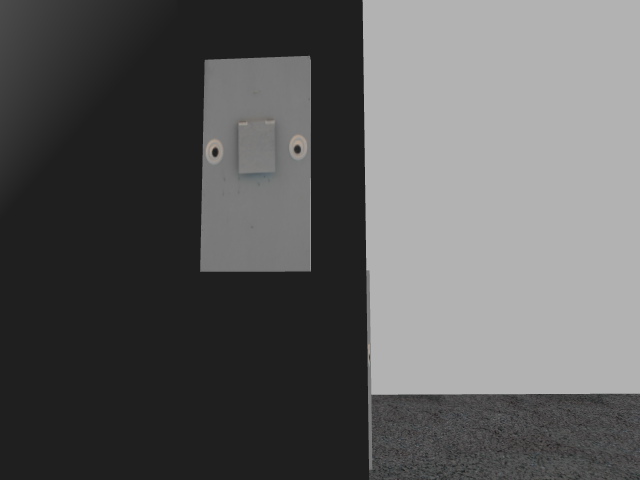facade: (205, 118, 307, 176)
